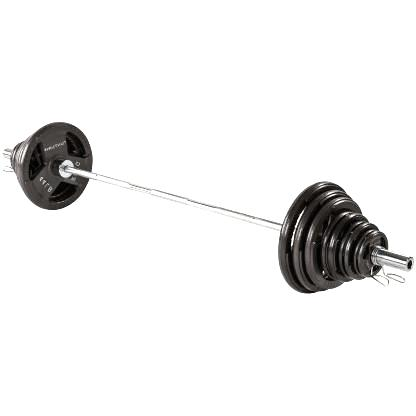Barbell: (397, 251, 412, 278)
